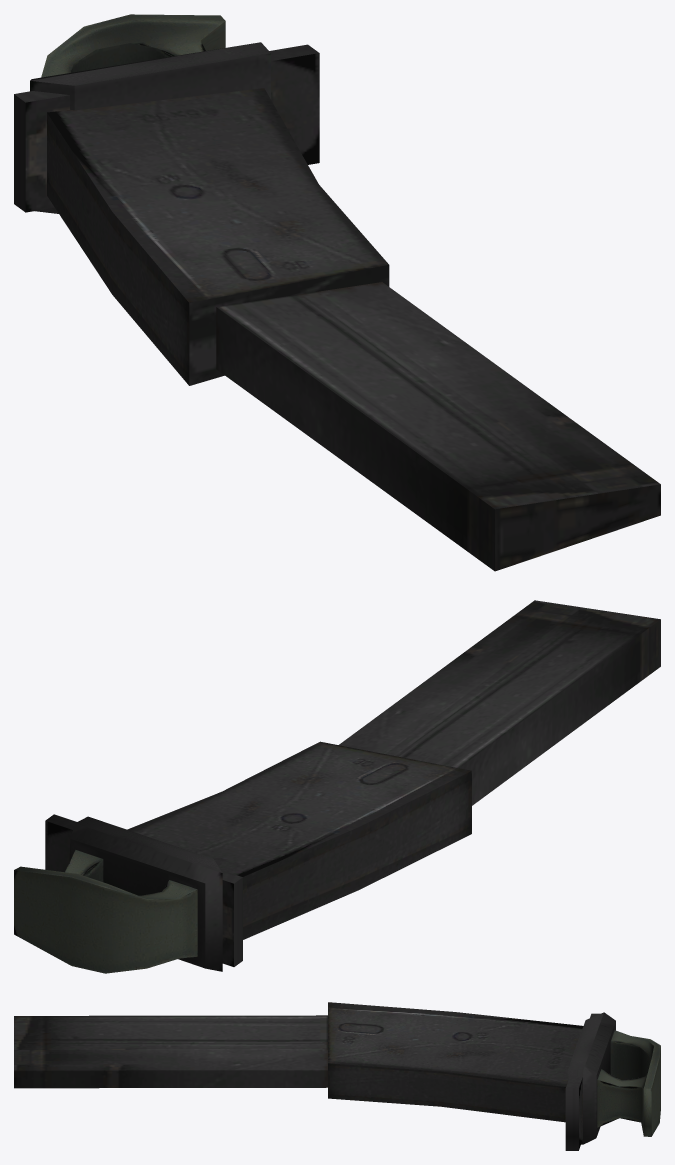
Rendered from t6_attach_fastmag_mp7_world_LOD1.obj.
3 renders of one model, top to bottom at view 1: azimuth 30°, elevation 25°; view 2: azimuth 150°, elevation 25°; view 3: azimuth 270°, elevation 25°, orthographic. The views are drawn at different scales.
Visible parts, largest first — view 1: mtl_t6_wpn_smg_mp7_camo1, mtl_t6_attach_fastmag; view 2: mtl_t6_wpn_smg_mp7_camo1, mtl_t6_attach_fastmag; view 3: mtl_t6_wpn_smg_mp7_camo1, mtl_t6_attach_fastmag.
Boxes of the visible parts, x1=… form: mtl_t6_wpn_smg_mp7_camo1: x1=14, y1=44, x2=660, y2=571; mtl_t6_attach_fastmag: x1=30, y1=14, x2=270, y2=213; mtl_t6_wpn_smg_mp7_camo1: x1=45, y1=600, x2=660, y2=966; mtl_t6_attach_fastmag: x1=14, y1=816, x2=222, y2=973; mtl_t6_wpn_smg_mp7_camo1: x1=14, y1=1002, x2=599, y2=1150; mtl_t6_attach_fastmag: x1=567, y1=1012, x2=660, y2=1144.
Size of the model in its own units: 8.22 by 3.01 by 23.9.
